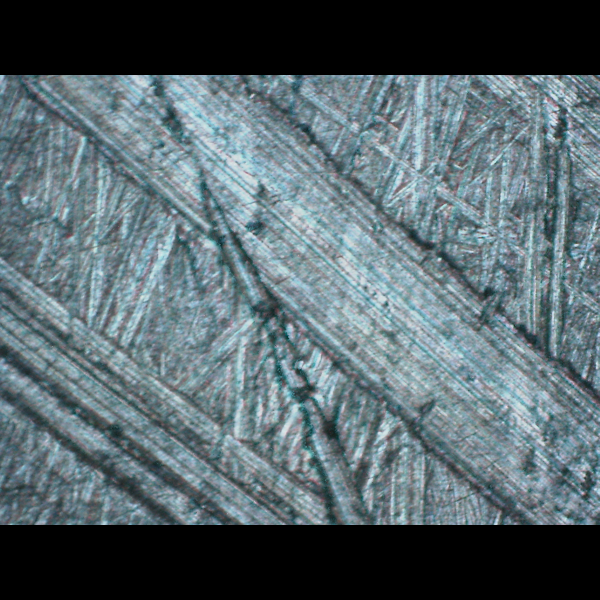d: (4, 75, 600, 521)
